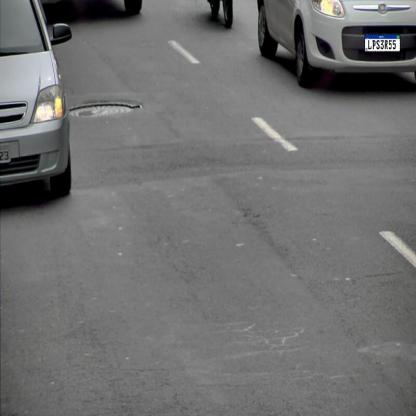PlacaM: (364, 34, 400, 52)
